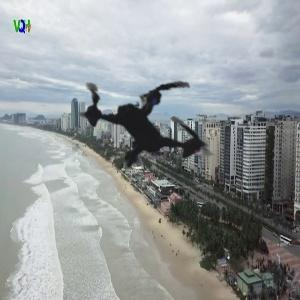drone: (20, 4, 267, 251)
